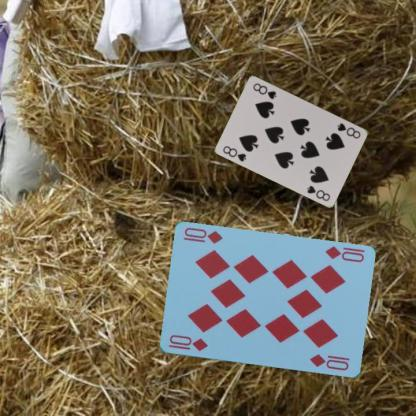10d: (322, 244, 366, 264), (166, 332, 209, 352)
8s: (335, 120, 362, 140), (221, 143, 248, 163)
